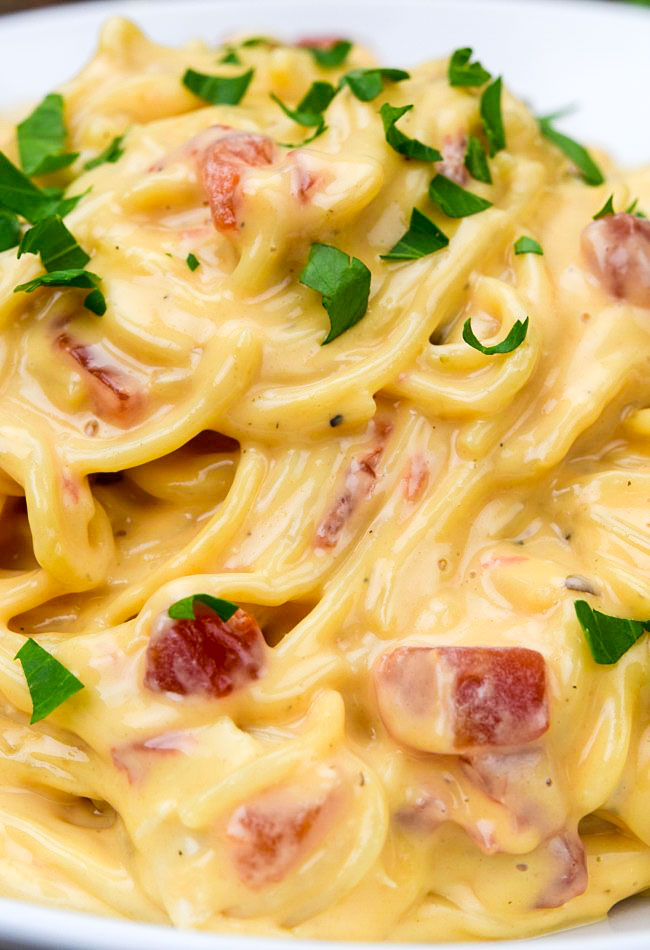plain spaghetti: (51, 103, 621, 838)
